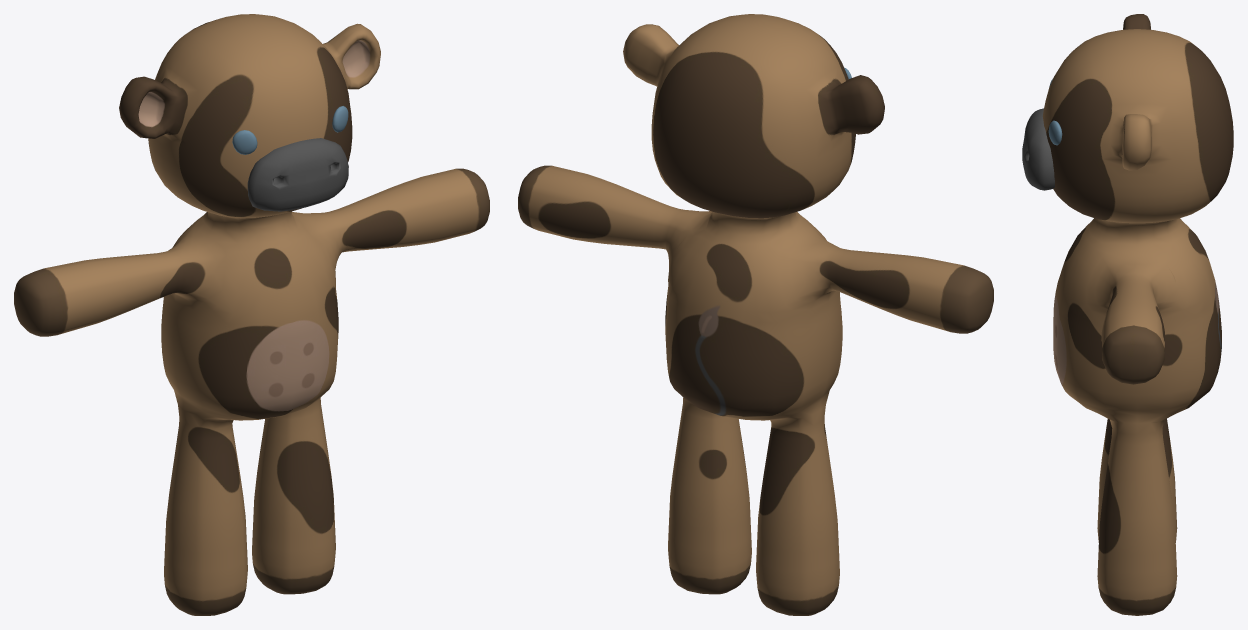
The model's file is vaca.fbx.
3 views of the same model, side by side, from view 1: azimuth 30°, elevation 25°; view 2: azimuth 150°, elevation 25°; view 3: azimuth 270°, elevation 25° (orthographic). The views are drawn at different scales.
Parts seen in each view (by area): view 1: brazos, Vaca_limpia_uvs.001, ojos; view 2: brazos; view 3: brazos, Vaca_limpia_uvs.001.
Boxes of the visible parts, x1,y1,x2,y2 form: brazos: (14,14,489,615); Vaca_limpia_uvs.001: (247,138,348,211); ojos: (232,106,348,154); brazos: (518,14,993,615); brazos: (1042,14,1233,615); Vaca_limpia_uvs.001: (1022,108,1054,190).
Bounding box in the file's own units: 140 × 166 × 58.25.
